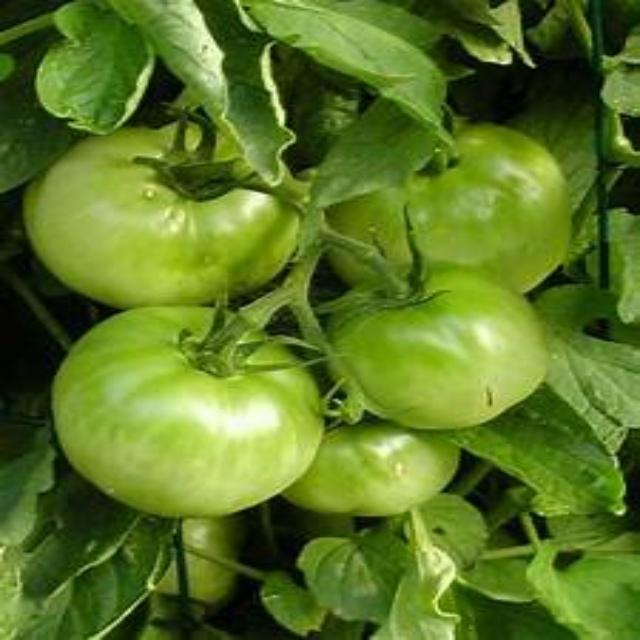tomato: (60, 302, 341, 517), (23, 112, 308, 316), (347, 123, 583, 299), (328, 294, 563, 438), (282, 410, 485, 532)
